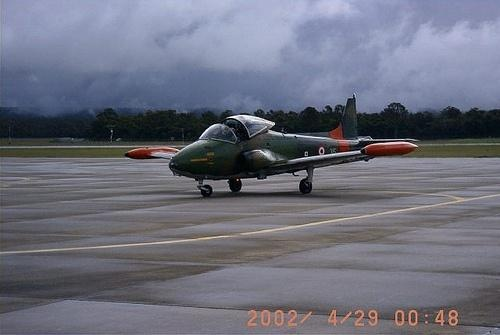aeroplane: (125, 91, 420, 200)
